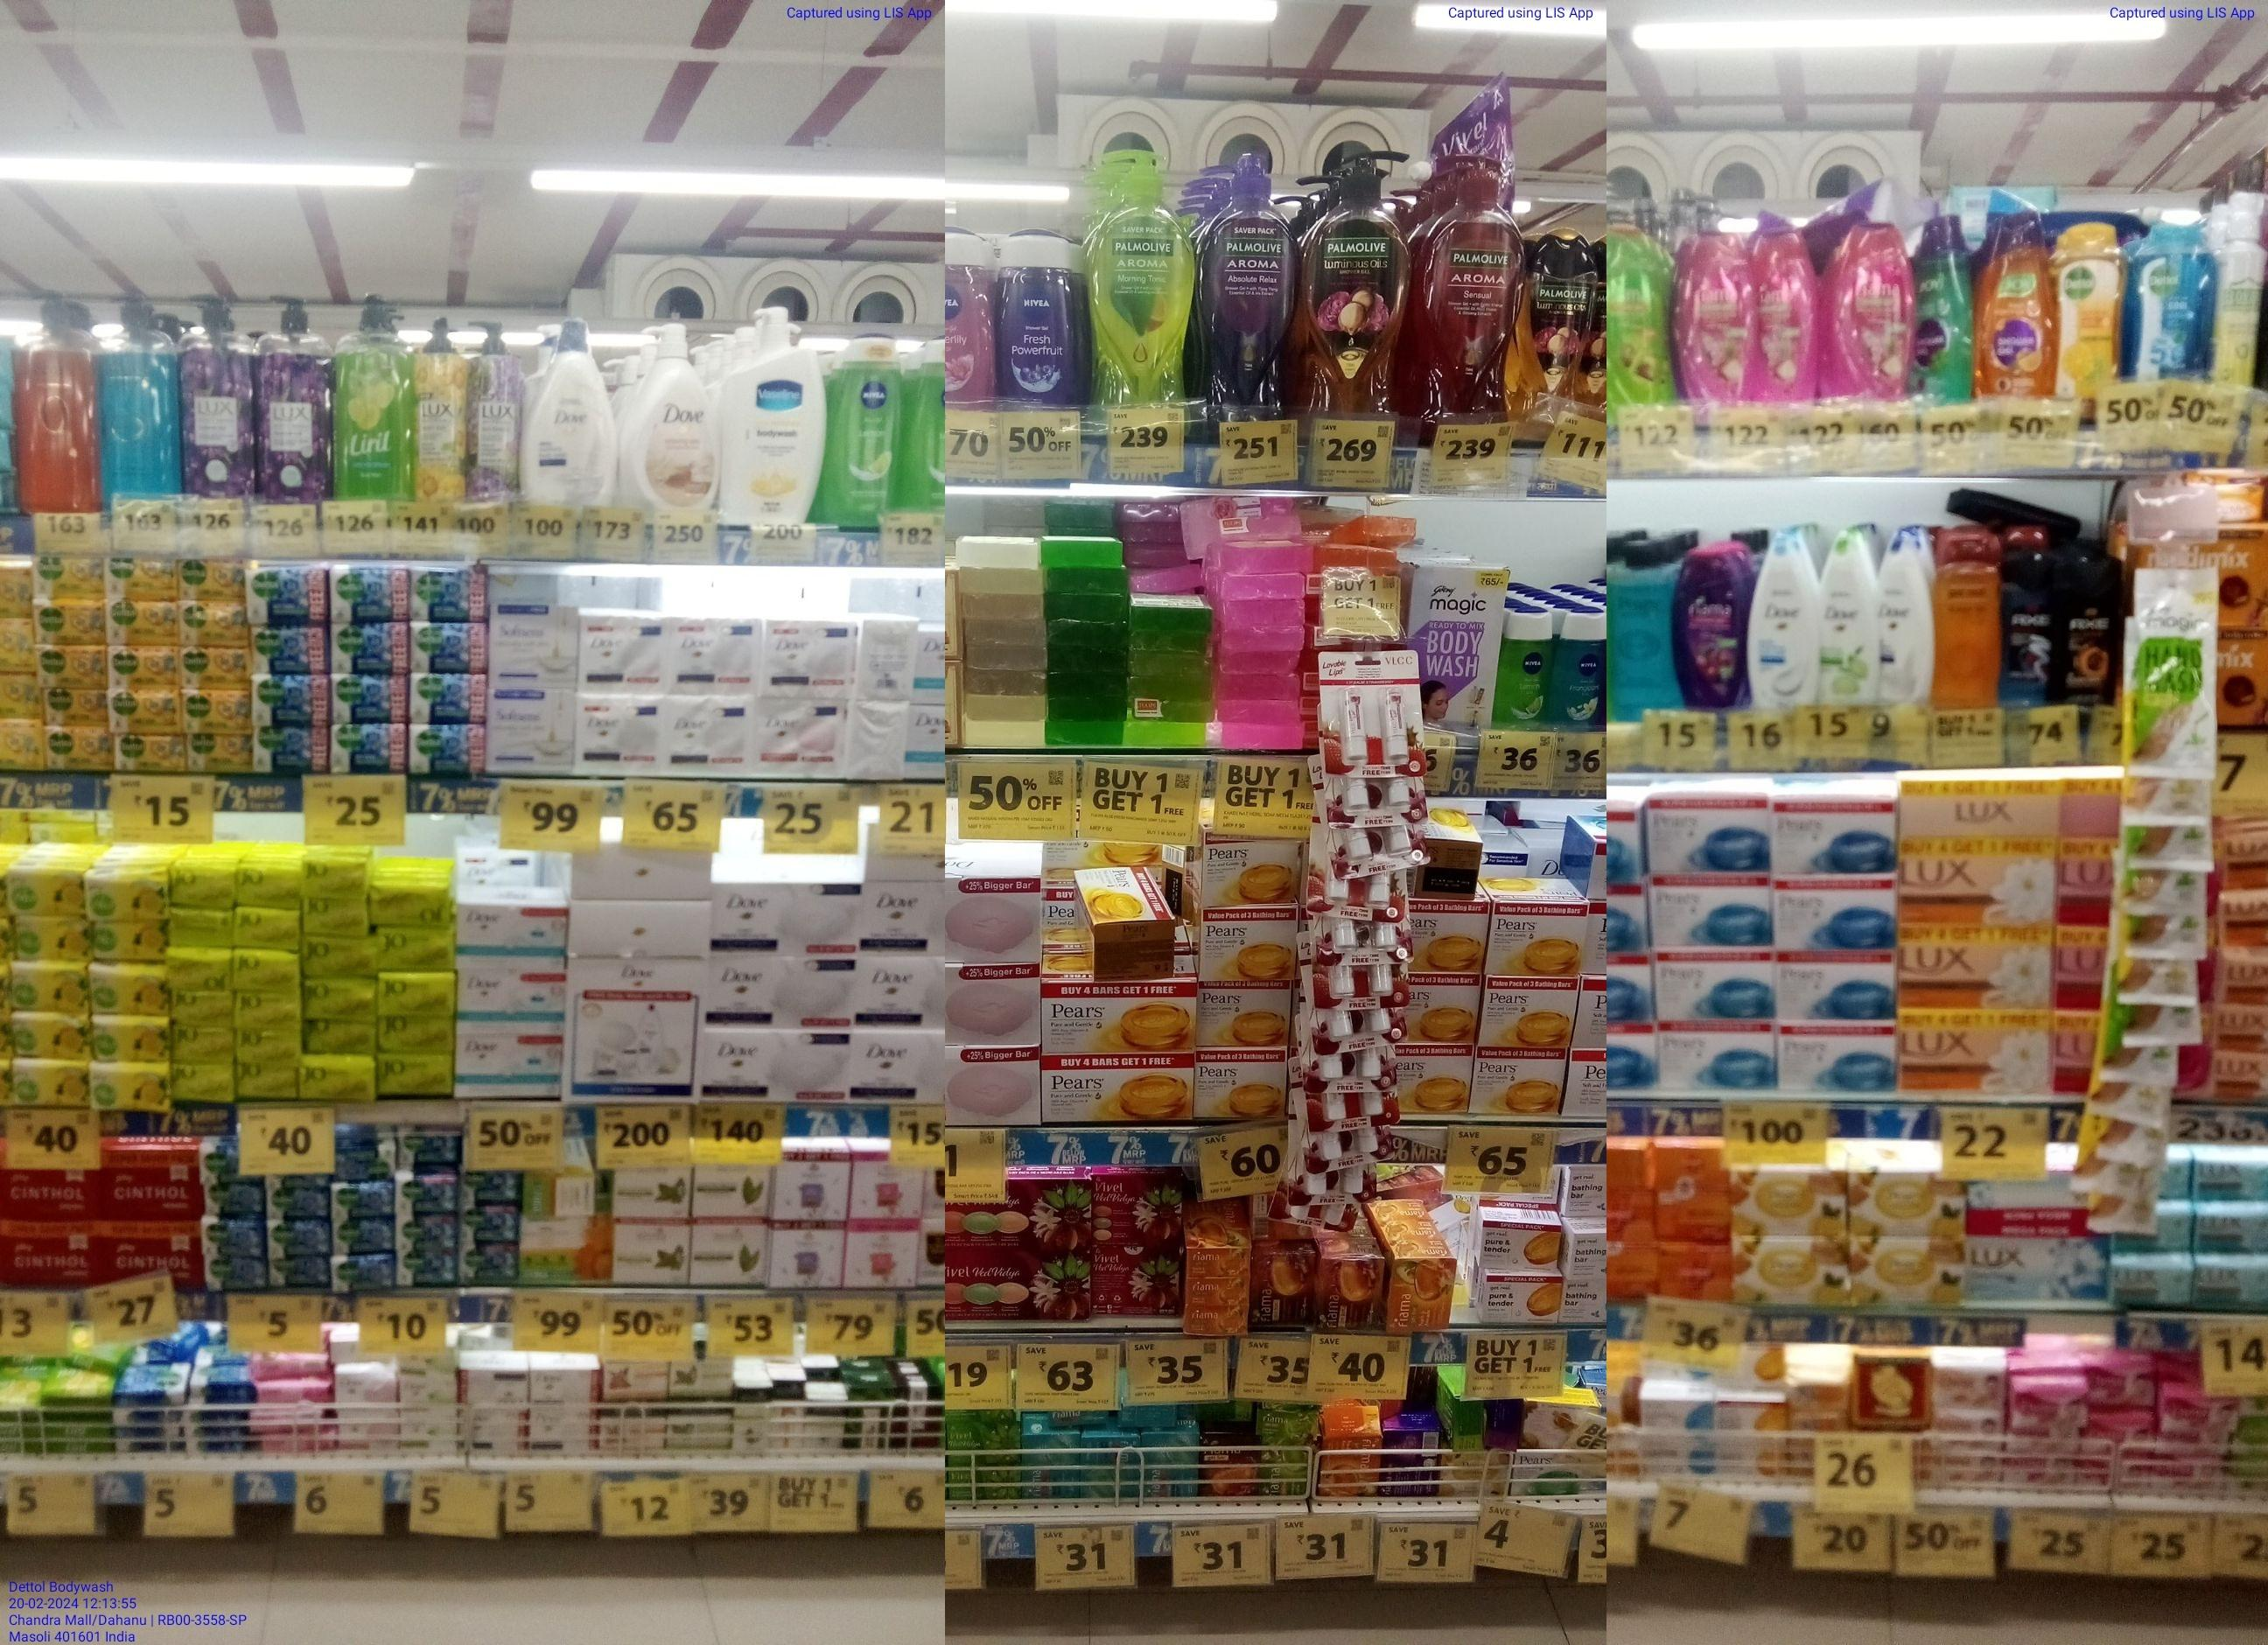Dettol_Bodywash_Cool: (2129, 213, 2215, 380)
Dettol_Bodywash_Refresh: (2060, 224, 2120, 384)
Dove_Deep_Moisture_Body_Wash_250ML: (1875, 523, 1930, 701)
Dove_Gentle_Exfoliating_Body_Wash_250ML: (1749, 544, 1814, 703)
Dove_Refreshing_Body_Wash_250ML: (1819, 525, 1868, 701)
Fiama_Shower_Gel_Lemongrass_and_Jojoba_250ML: (1609, 229, 1669, 402)
Fiama_Shower_Gel_Patchouli_and_Macadamia_250ML: (1675, 229, 1761, 402), (1831, 224, 1911, 403), (1763, 229, 1819, 402)
Get_Real_Shower_Gel_Moisturising_Glycerin_300ML: (1933, 539, 2000, 712)
Joy_Shower_Gel_Mandarin_and_Lemongrass_250ML: (1979, 208, 2055, 400)
Joy_Shower_Gel_Mint_and_Eucalyptus_250ML: (1914, 220, 1974, 400)
Nivea_Shower_Gel_Frangipani_and_Oil_250ML: (1551, 606, 1606, 733)
Nivea_Shower_Gel_Fresh_Powerfruit_250ML: (1004, 225, 1085, 412)
Nivea_Shower_Gel_Lemon_and_Oil_250ML: (828, 336, 898, 520), (1498, 608, 1548, 731)
Nivea_Shower_Gel_Waterlily_and_Oil_250ML: (944, 229, 998, 412)
Palmolive_Luminous_Oils_Invigorating_Macadamia_Oil_With_Peony_250ML: (1518, 229, 1599, 407)
